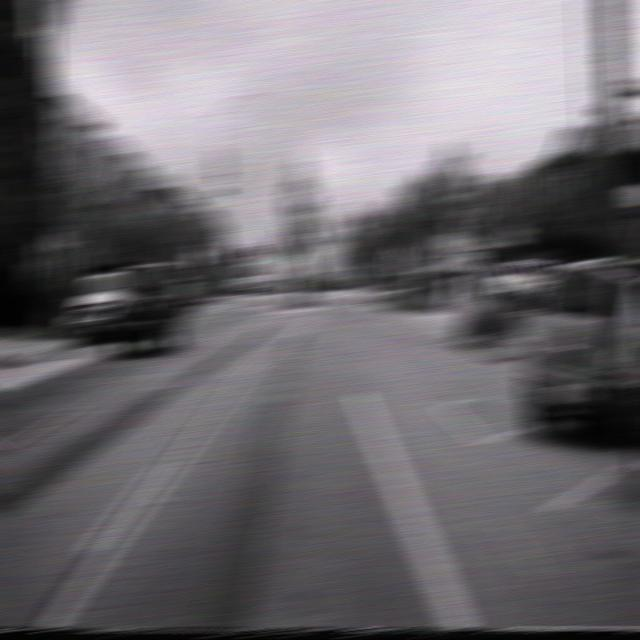pedestrianCrossing: (385, 242, 409, 269)
yield: (300, 230, 320, 247)
